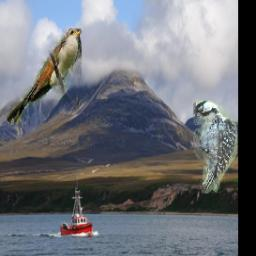Cuckoo: (7, 30, 82, 126)
Woodpecker: (194, 100, 238, 193)
